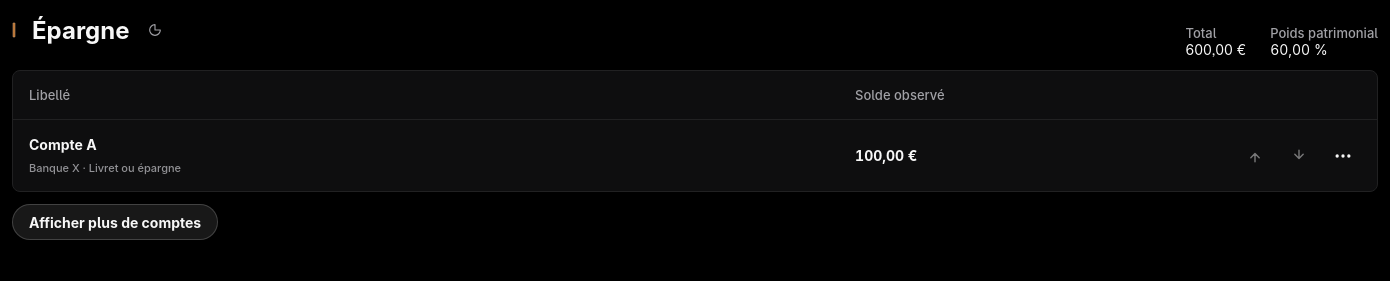
AccountOverview › reads the next page of one group with its cursor
Click the button "Afficher plus de comptes". click: (115, 222)
box: [12,204,218,240]
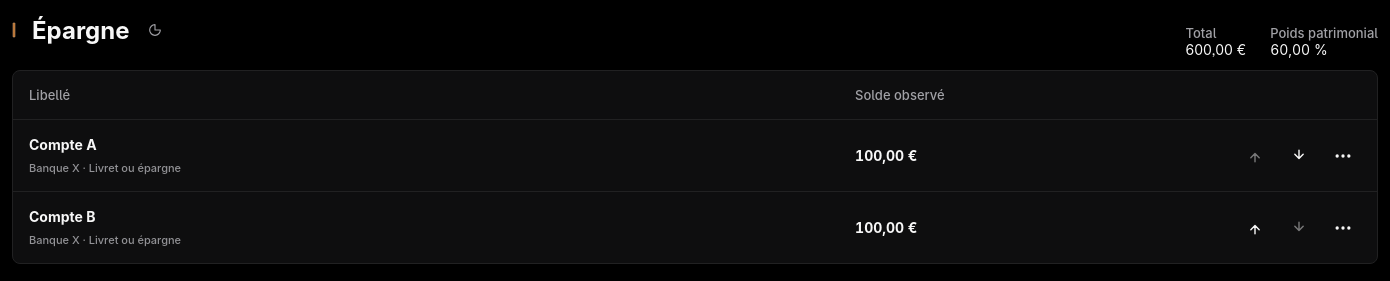
Result: the link "Compte B" is shown at [29,208,96,225]
Result: the button "Afficher plus de comptes" is gone
